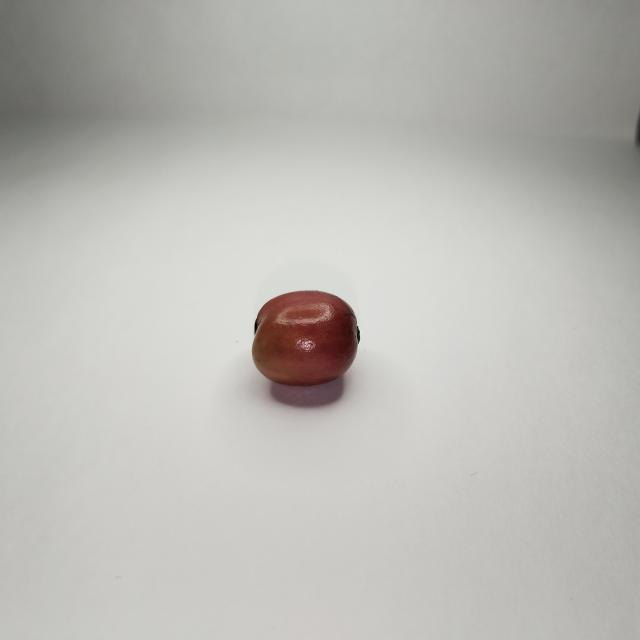Sano: (253, 290, 359, 387)
